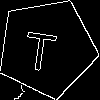T: (22, 22, 59, 72)
